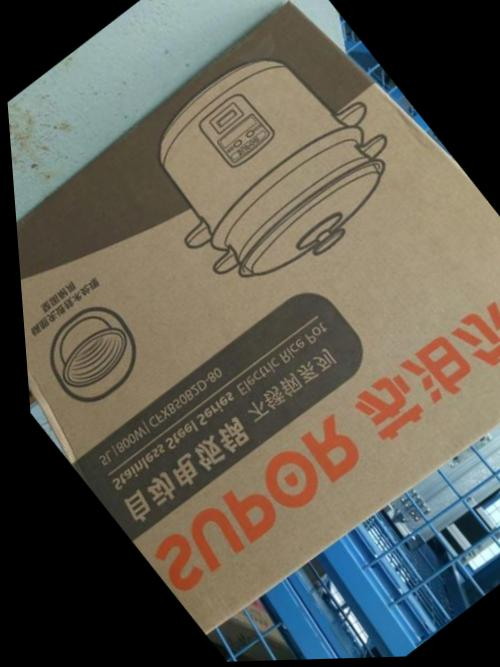cardboard: (0, 0, 500, 652)
